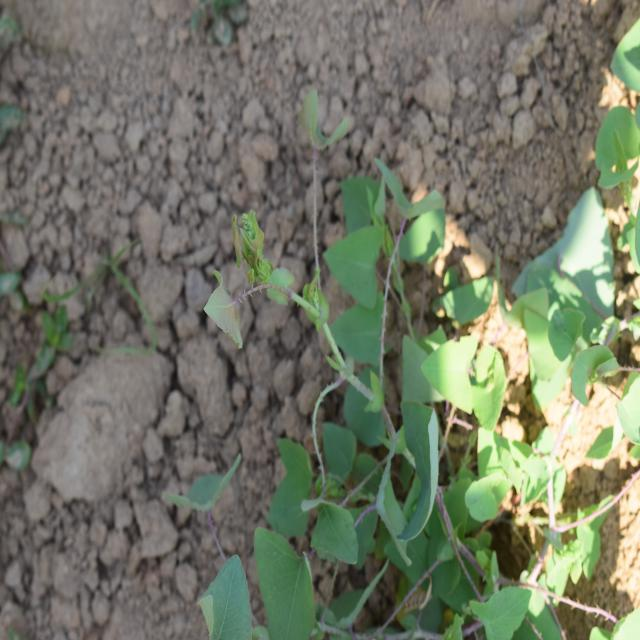Asiatic_Smartweed: (189, 85, 499, 428), (242, 422, 396, 640), (527, 289, 640, 433)
